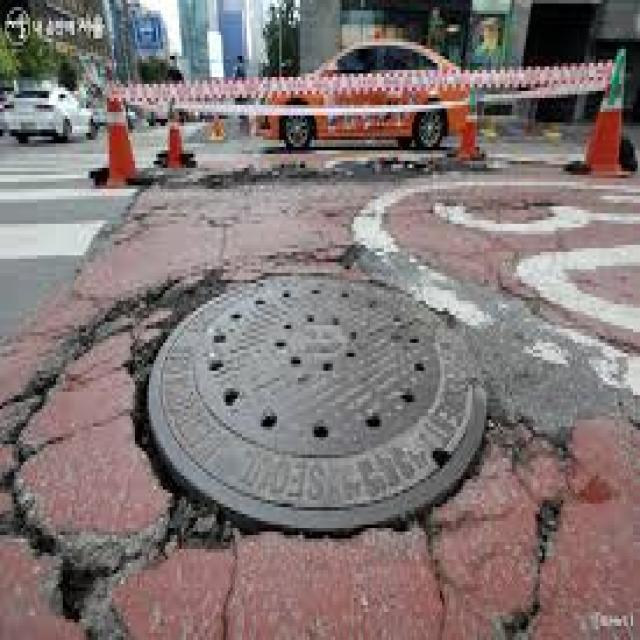Sewer Cover: (119, 237, 505, 584)
